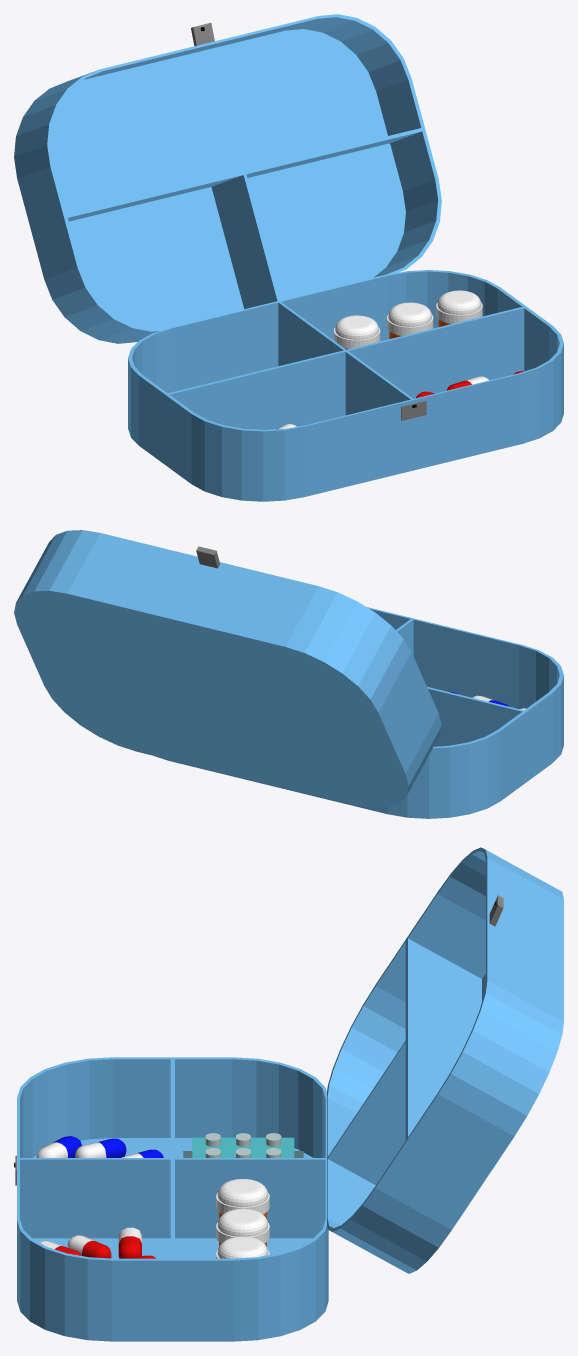
File: madicine_box.glb
3 renders of one model, top to bottom at view 1: azimuth 30°, elevation 25°; view 2: azimuth 150°, elevation 25°; view 3: azimuth 270°, elevation 25°, orthographic. The views are drawn at different scales.
Parts seen in each view (by area): view 1: manicine_box2, manicine_box, Cylinder.002, Cylinder, Cylinder.001; view 2: manicine_box2, manicine_box; view 3: manicine_box, manicine_box2, Cube.001, Cylinder.001, Cylinder, Cylinder.002, capsule11.003, capsule11.004, capsule1, capsule1.001.
Part boxes in pixels (bbox=[...]): manicine_box2: bbox=[14, 14, 441, 343]; manicine_box: bbox=[128, 270, 563, 501]; Cylinder.002: bbox=[436, 290, 482, 326]; Cylinder: bbox=[387, 302, 433, 338]; Cylinder.001: bbox=[334, 315, 380, 349]; manicine_box2: bbox=[14, 530, 441, 807]; manicine_box: bbox=[154, 607, 563, 818]; manicine_box: bbox=[14, 1057, 328, 1341]; manicine_box2: bbox=[327, 847, 563, 1273]; Cube.001: bbox=[192, 1133, 294, 1157]; Cylinder.001: bbox=[216, 1179, 269, 1218]; Cylinder: bbox=[216, 1208, 269, 1246]; Cylinder.002: bbox=[216, 1236, 269, 1258]; capsule11.003: bbox=[75, 1138, 126, 1157]; capsule11.004: bbox=[36, 1136, 81, 1157]; capsule1: bbox=[118, 1227, 141, 1258]; capsule1.001: bbox=[67, 1235, 111, 1258].
Bounding box in the file's own units: 0.0734 × 0.057 × 0.0839.
